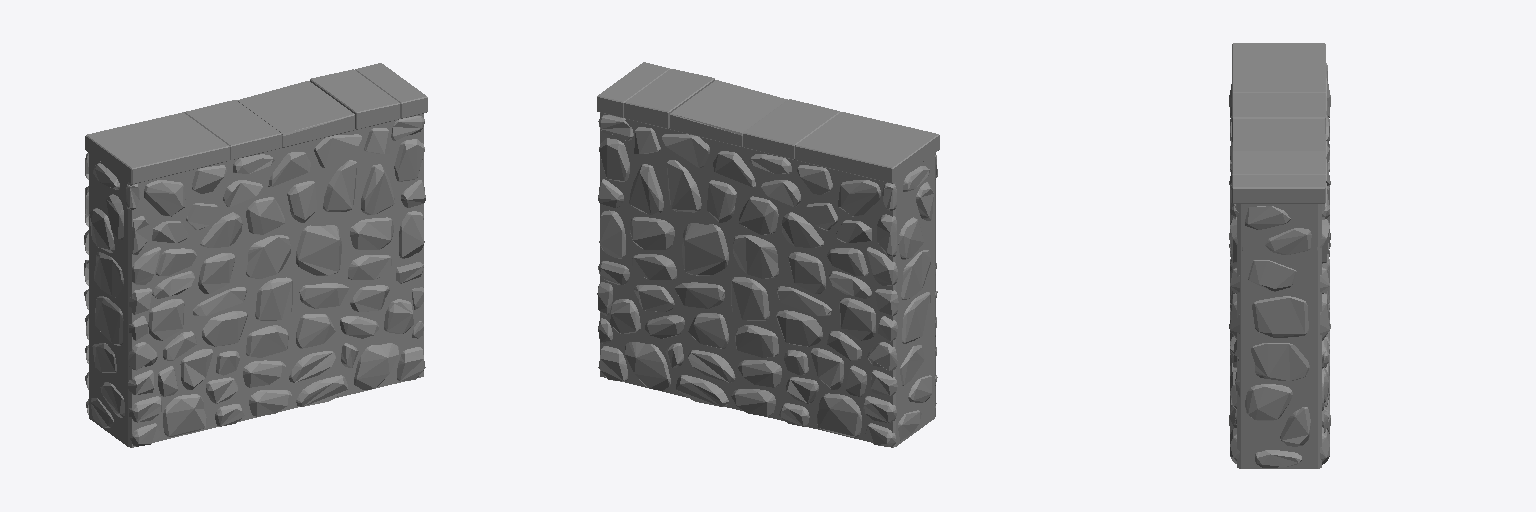
File: StoneWall128.obj
3 renders of one model, left to right at view 1: azimuth 30°, elevation 25°; view 2: azimuth 150°, elevation 25°; view 3: azimuth 270°, elevation 25°, orthographic.
Visible parts, largest first — view 1: wall1; view 2: wall1; view 3: wall1.
Part boxes in pixels (left/top/right/bottom): wall1: left=84, top=63, right=427, bottom=447; wall1: left=597, top=62, right=939, bottom=447; wall1: left=1229, top=43, right=1330, bottom=468.
Bounding box in the file's own units: 132 × 117 × 38.05.